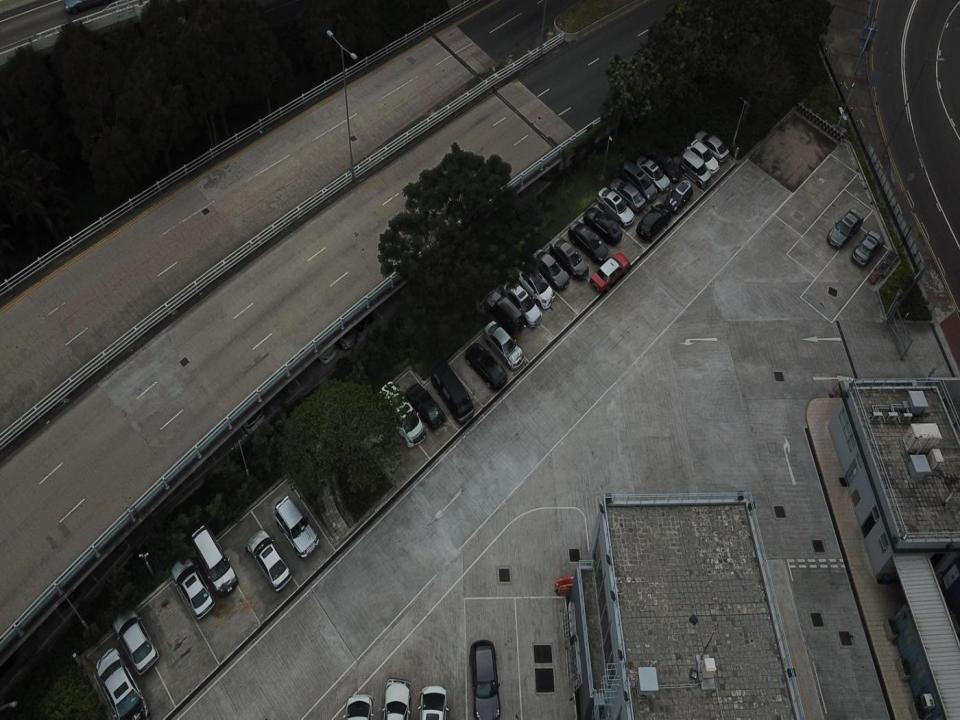car: (95, 649, 150, 719), (110, 605, 162, 675), (376, 381, 426, 449), (272, 494, 320, 559), (245, 529, 292, 591), (171, 554, 215, 620), (468, 639, 500, 719), (404, 378, 446, 433), (502, 276, 542, 329), (484, 318, 524, 369), (466, 342, 506, 392), (568, 217, 608, 262), (618, 155, 656, 202), (827, 207, 865, 252), (517, 264, 554, 310), (590, 252, 631, 292), (597, 185, 636, 226), (550, 238, 588, 280), (533, 246, 569, 290), (380, 674, 414, 719), (584, 205, 622, 245), (609, 174, 647, 214), (486, 288, 521, 330), (636, 202, 671, 243), (678, 148, 712, 188), (635, 155, 670, 193), (853, 228, 885, 268), (686, 138, 720, 174), (696, 129, 730, 163), (417, 684, 449, 719), (664, 180, 693, 215), (342, 694, 374, 719)
van: (192, 526, 240, 598), (434, 360, 476, 423)
